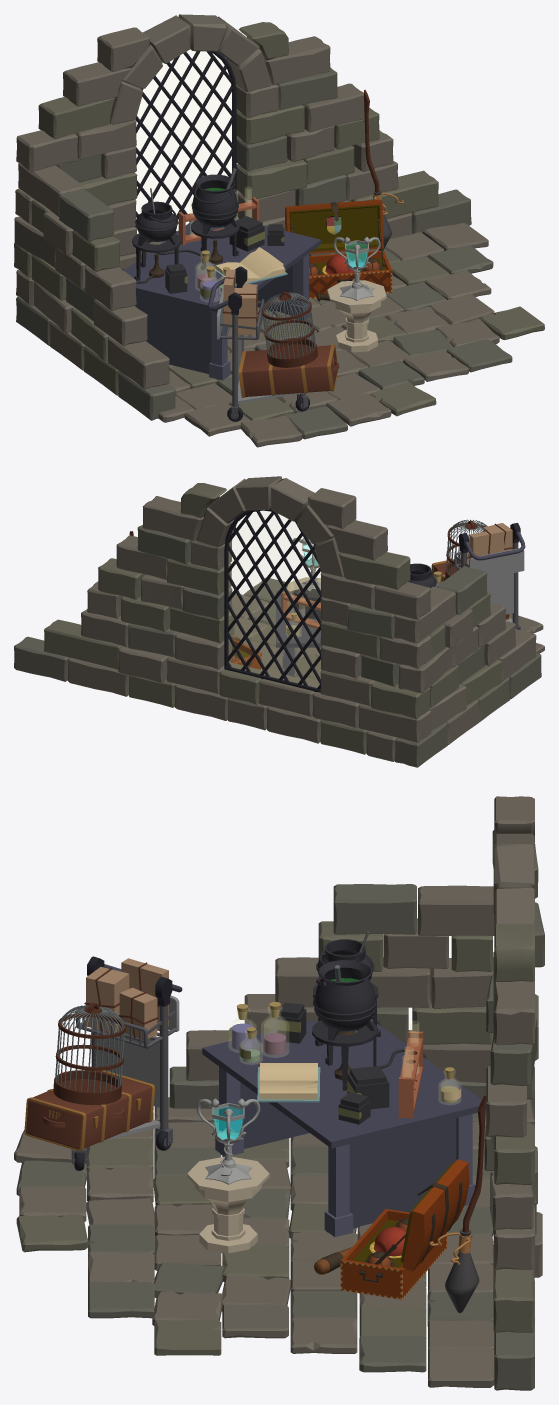
Rendered from harry_potter_corner.glb.
3 renders of one model, top to bottom at view 1: azimuth 30°, elevation 25°; view 2: azimuth 150°, elevation 25°; view 3: azimuth 270°, elevation 25°, orthographic. The views are drawn at different scales.
Parts seen in each view (by area): view 1: Object020_Material #765_0, Plane002, Box460, Plane001, Box321_Material #563_0, Object012_Material #804_0, Object033_Material #1129_0, Box459, Box435, Box431, Box321_Material #575_0, Box407 (+87 smaller); view 2: Plane002, Plane001, Box460, Box393, Box459, Box321_Material #752_0, Box425, Box399, Box464, Box461, Box397, Box458 (+68 smaller); view 3: Object020_Material #765_0, Box320, Box321_Material #563_0, Object020_Material #2159_0, Object033_Material #1129_0, Box431, Box321_Material #778_0, Box425, Box321_Material #575_0, Box460, Object016_Material #1046_0, Object013_Material #803_0 (+78 smaller).
Part boxes in pixels (x1=…): Object020_Material #765_0: x1=124, y1=218, x2=321, y2=373; Plane002: x1=136, y1=50, x2=231, y2=233; Box460: x1=109, y1=14, x2=271, y2=124; Plane001: x1=135, y1=51, x2=233, y2=233; Box321_Material #563_0: x1=242, y1=345, x2=339, y2=396; Object012_Material #804_0: x1=289, y1=204, x2=380, y2=251; Object033_Material #1129_0: x1=327, y1=280, x2=386, y2=352; Box459: x1=38, y1=97, x2=114, y2=138; Box435: x1=108, y1=336, x2=169, y2=389; Box431: x1=59, y1=188, x2=113, y2=241; Box321_Material #575_0: x1=222, y1=277, x2=317, y2=367; Box407: x1=236, y1=159, x2=307, y2=199; Plane002: x1=229, y1=511, x2=320, y2=687; Plane001: x1=227, y1=511, x2=321, y2=689; Box460: x1=196, y1=476, x2=344, y2=577; Box393: x1=44, y1=619, x2=122, y2=669; Box459: x1=339, y1=552, x2=410, y2=589; Box321_Material #752_0: x1=469, y1=548, x2=524, y2=622; Box425: x1=394, y1=586, x2=456, y2=643; Box399: x1=358, y1=704, x2=430, y2=742; Box464: x1=142, y1=496, x2=203, y2=540; Box461: x1=326, y1=520, x2=387, y2=560; Box397: x1=259, y1=672, x2=319, y2=716; Box458: x1=374, y1=582, x2=430, y2=620; Object020_Material #765_0: x1=202, y1=1019, x2=486, y2=1228; Box320: x1=352, y1=1159, x2=469, y2=1271; Box321_Material #563_0: x1=26, y1=1071, x2=151, y2=1149; Object020_Material #2159_0: x1=215, y1=1066, x2=475, y2=1237; Object033_Material #1129_0: x1=187, y1=1156, x2=269, y2=1253; Box431: x1=333, y1=884, x2=416, y2=934; Box321_Material #778_0: x1=86, y1=958, x2=168, y2=1040; Box425: x1=418, y1=885, x2=494, y2=936; Box321_Material #575_0: x1=53, y1=962, x2=170, y2=1105; Box460: x1=494, y1=833, x2=534, y2=925; Object016_Material #1046_0: x1=313, y1=960, x2=376, y2=1031; Object013_Material #803_0: x1=340, y1=1209, x2=446, y2=1298.
Size of the model in its own units: 3.4 by 1.97 by 2.6.
